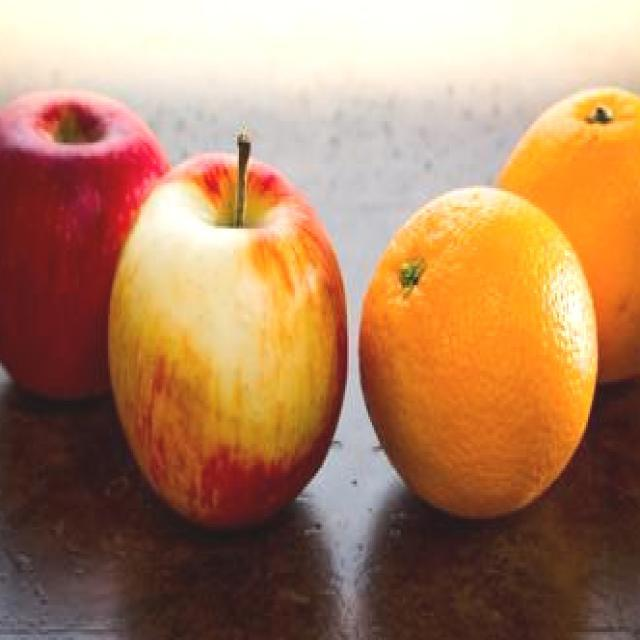apple: (97, 134, 350, 530), (0, 75, 172, 425)
orange: (345, 180, 596, 521), (495, 73, 640, 384)
